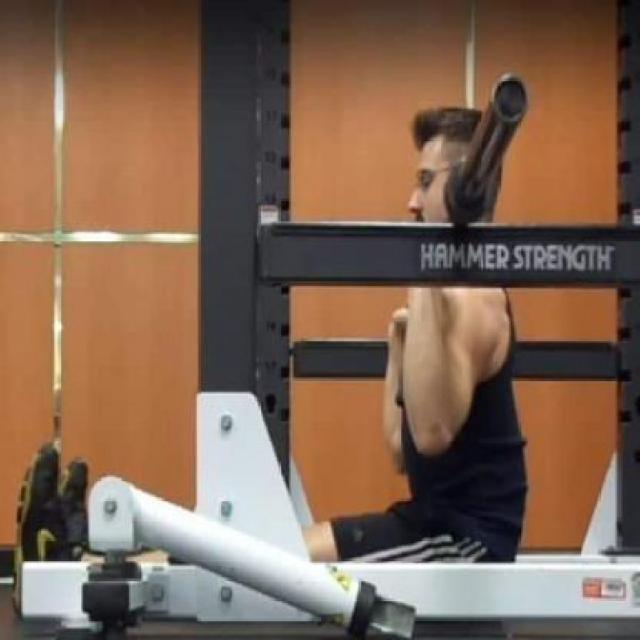Barbell: (486, 65, 536, 142)
